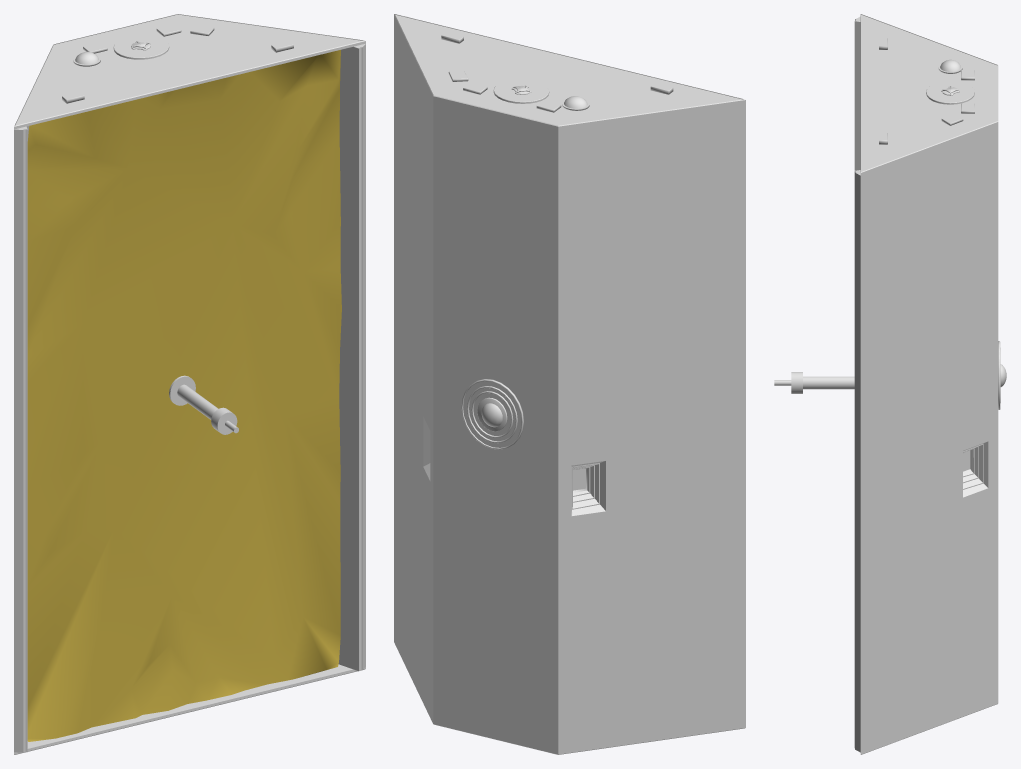
Rendered from Grace.fbx.
3 views of the same model, side by side, from view 1: azimuth 30°, elevation 25°; view 2: azimuth 150°, elevation 25°; view 3: azimuth 270°, elevation 25° (orthographic). The views are drawn at different scales.
Parts seen in each view (by area): view 1: Grace; view 2: Grace; view 3: Grace.
Part boxes in pixels (x1=…): Grace: x1=14, y1=14, x2=365, y2=754; Grace: x1=394, y1=14, x2=745, y2=754; Grace: x1=774, y1=14, x2=1006, y2=754.
Size of the model in its own units: 189 by 329 by 117.
